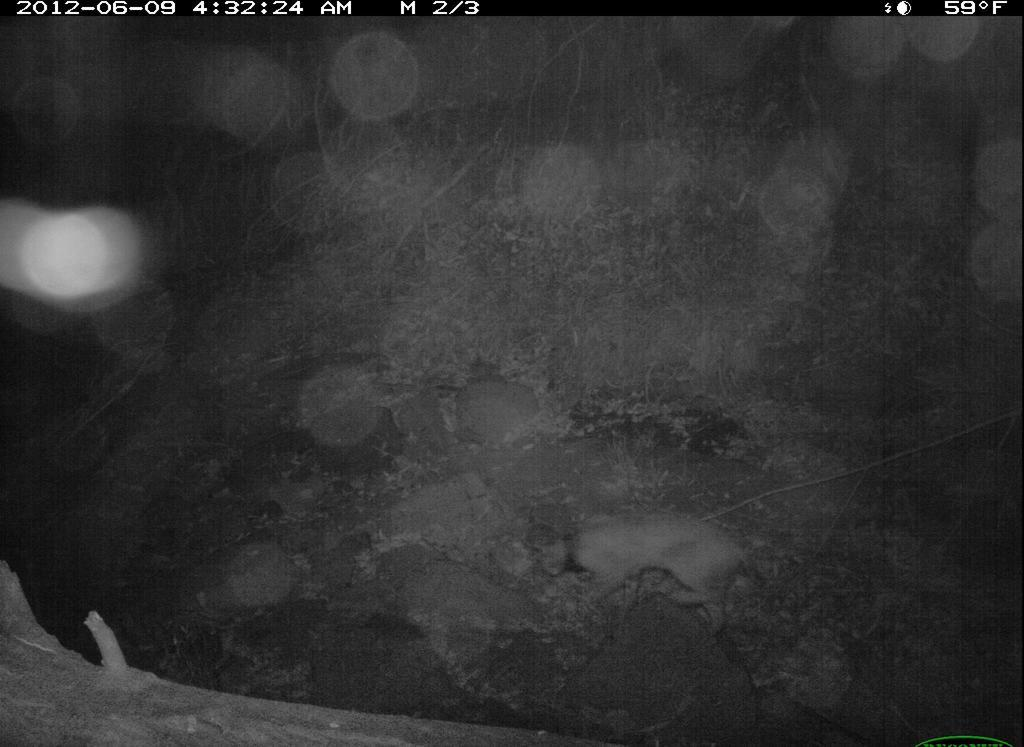bobcat: (529, 501, 780, 628)
